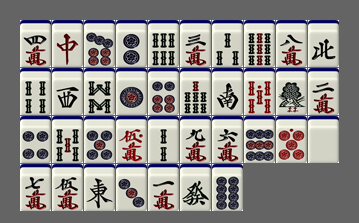0m: (116, 116, 147, 163)
0p: (276, 116, 307, 163)
0s: (244, 68, 275, 115)
1m: (148, 164, 179, 211)
1p: (116, 68, 147, 115)
1s: (276, 68, 307, 115)
1z: (84, 164, 115, 211)
2m: (308, 68, 339, 115)
2p: (116, 20, 147, 67)
2s: (148, 116, 179, 163)
2z: (212, 68, 243, 115)
3m: (180, 20, 211, 67)
3p: (116, 164, 147, 211)
3s: (212, 20, 243, 67)
3z: (52, 68, 83, 115)
4m: (20, 20, 51, 67)
4p: (20, 116, 51, 163)
4s: (20, 68, 51, 115)
4z: (308, 20, 339, 67)
5m: (52, 164, 83, 211)
5p: (84, 116, 115, 163)
5s: (52, 116, 83, 163)
5z: (308, 116, 339, 163)
6m: (212, 116, 243, 163)
6p: (148, 68, 179, 115)
6s: (148, 20, 179, 67)
6z: (180, 164, 211, 211)
7m: (20, 164, 51, 211)
7p: (84, 20, 115, 67)
7s: (180, 68, 211, 115)
7z: (52, 20, 83, 67)
8m: (276, 20, 307, 67)
8p: (212, 164, 243, 211)
8s: (84, 68, 115, 115)
9m: (180, 116, 211, 163)
9p: (244, 116, 275, 163)
9s: (244, 20, 275, 67)
